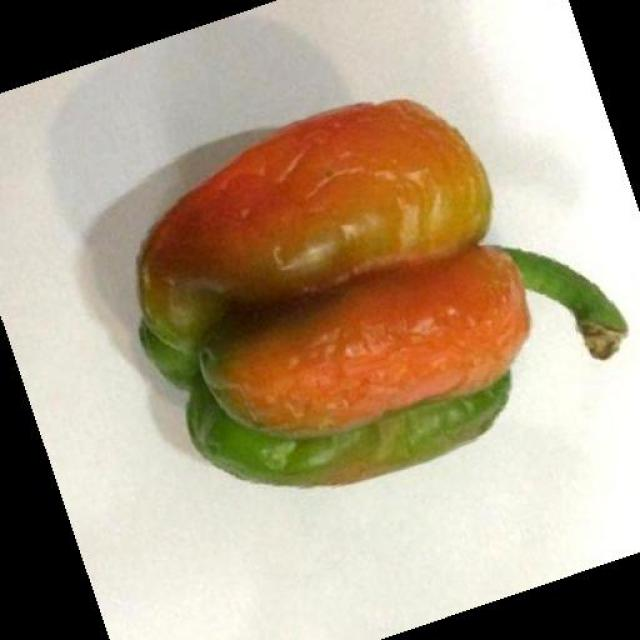Stale_Capsicum: (125, 92, 554, 479)
